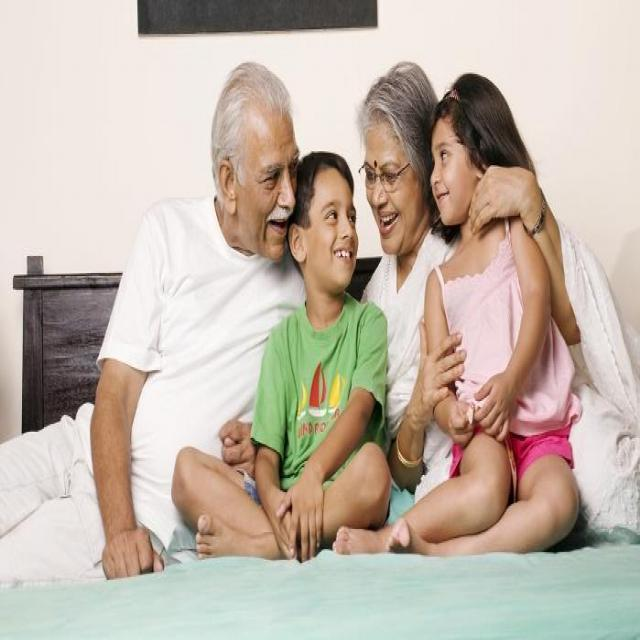child: (336, 82, 583, 552)
